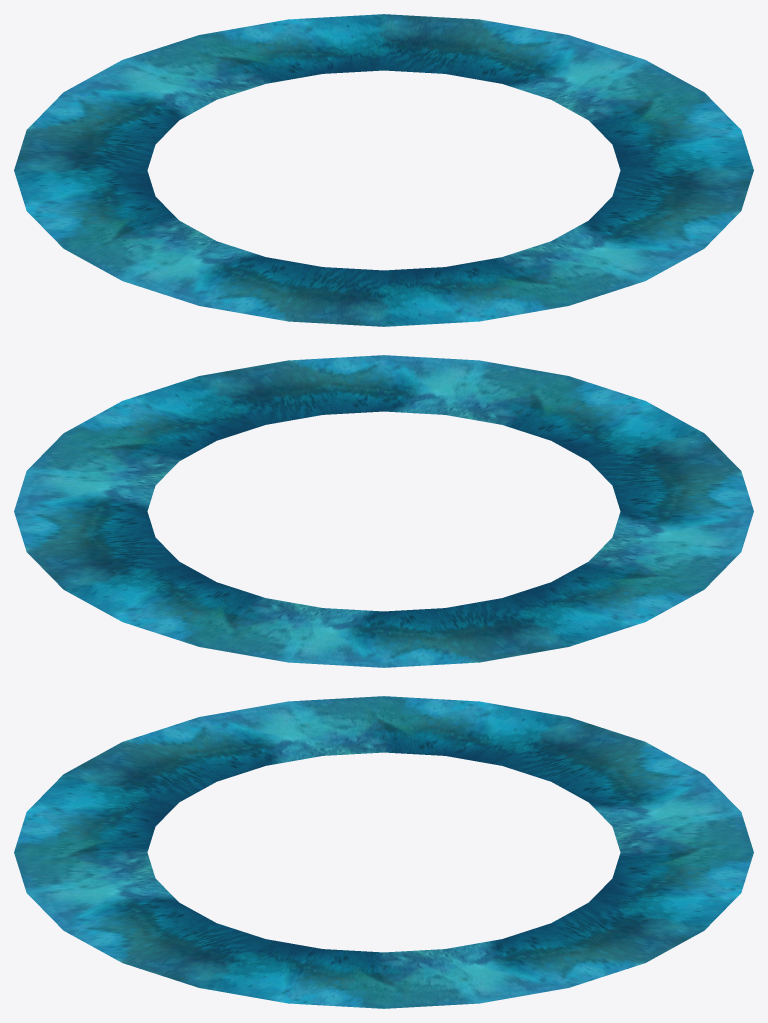
File: Background_water.obj
The picture shows the model from 3 angles, top to bottom: view 1: azimuth 30°, elevation 25°; view 2: azimuth 150°, elevation 25°; view 3: azimuth 270°, elevation 25°; orthographic projection.
Visible parts, largest first — view 1: Object_2; view 2: Object_2; view 3: Object_2.
Part boxes in pixels (x1=…): Object_2: x1=14, y1=14, x2=753, y2=326; Object_2: x1=14, y1=355, x2=753, y2=667; Object_2: x1=14, y1=696, x2=753, y2=1008.
Size of the model in its own units: 66666 by 0 by 66666.
